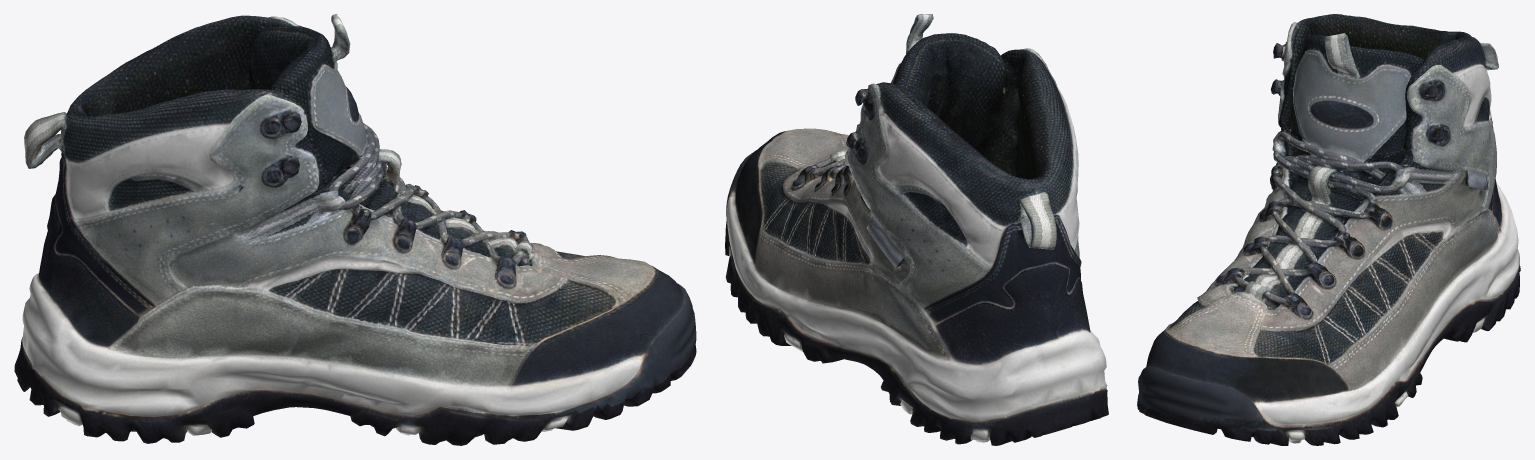
Rendered from Hiking_Boots.glb.
3 views of the same model, side by side, from view 1: azimuth 30°, elevation 25°; view 2: azimuth 150°, elevation 25°; view 3: azimuth 270°, elevation 25° (orthographic). The views are drawn at different scales.
Visible parts, largest first — view 1: hiking_boot.001; view 2: hiking_boot.001; view 3: hiking_boot.001.
Part boxes in pixels (box(x1,y1,x2,y2)): hiking_boot.001: box(14, 14, 696, 445); hiking_boot.001: box(725, 14, 1108, 445); hiking_boot.001: box(1137, 14, 1520, 445).
Size of the model in its own units: 0.2922 by 0.2033 by 0.2132.
1 material, 1 textured.
